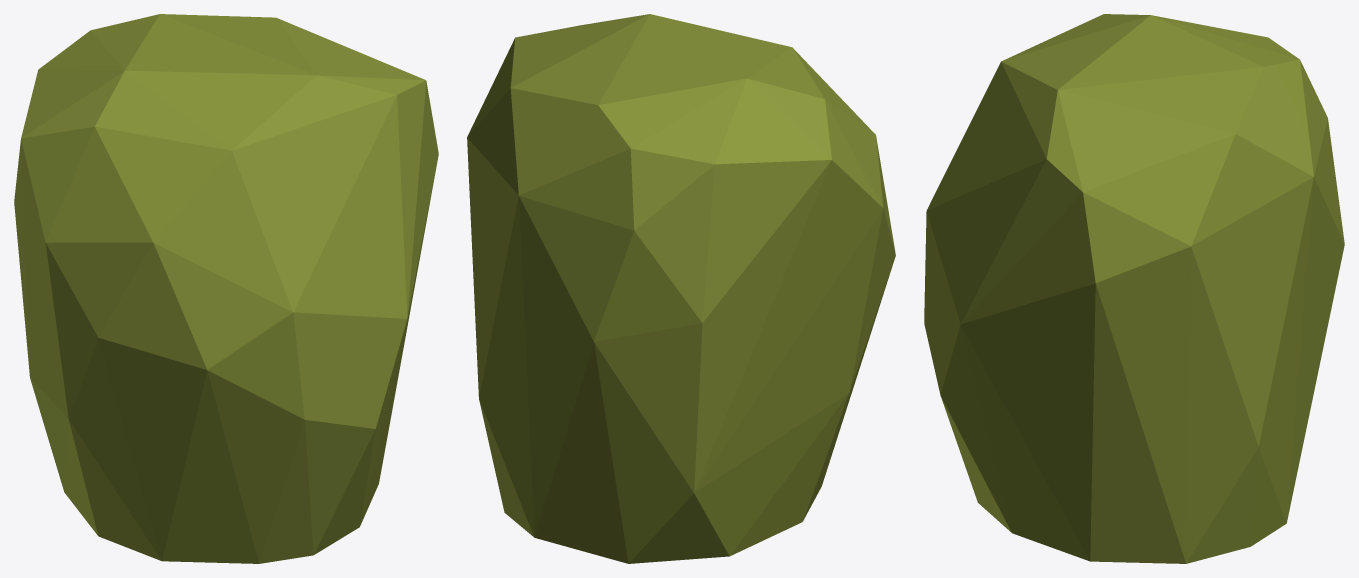
Rendered from ea_swamp_grass_02e_pre__19__lev1.glb.
The picture shows the model from 3 angles, left to right: view 1: azimuth 30°, elevation 25°; view 2: azimuth 150°, elevation 25°; view 3: azimuth 270°, elevation 25°; orthographic projection.
Visible parts, largest first — view 1: ea_swamp_grass_02e_pre__19__lev1; view 2: ea_swamp_grass_02e_pre__19__lev1; view 3: ea_swamp_grass_02e_pre__19__lev1.
Part boxes in pixels (x1,y1,x2,y2): ea_swamp_grass_02e_pre__19__lev1: (14,14,438,563); ea_swamp_grass_02e_pre__19__lev1: (467,14,895,563); ea_swamp_grass_02e_pre__19__lev1: (924,14,1344,563).
Size of the model in its own units: 2.34 by 2.52 by 2.19.
1 material, 1 textured.
